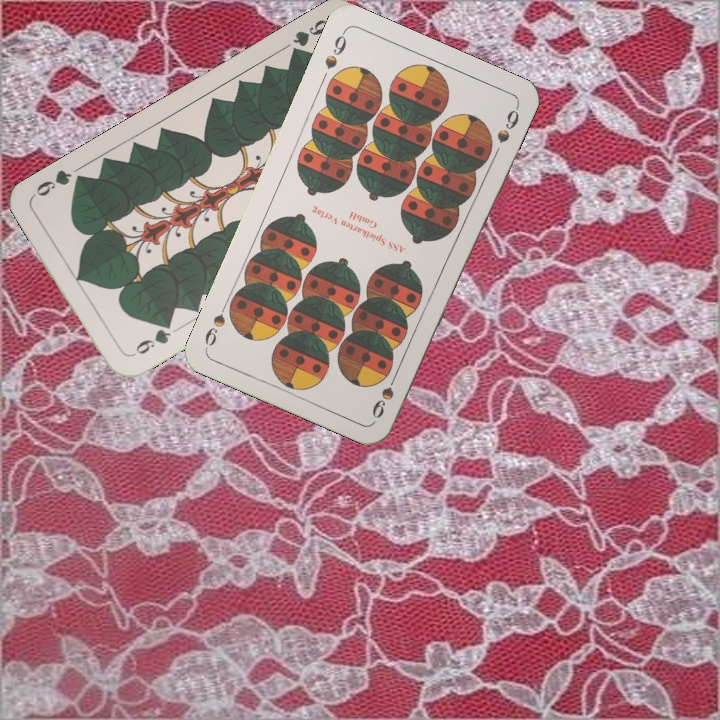G9: (286, 15, 333, 61), (125, 317, 175, 360)
S9: (367, 366, 402, 421), (320, 27, 350, 72)
